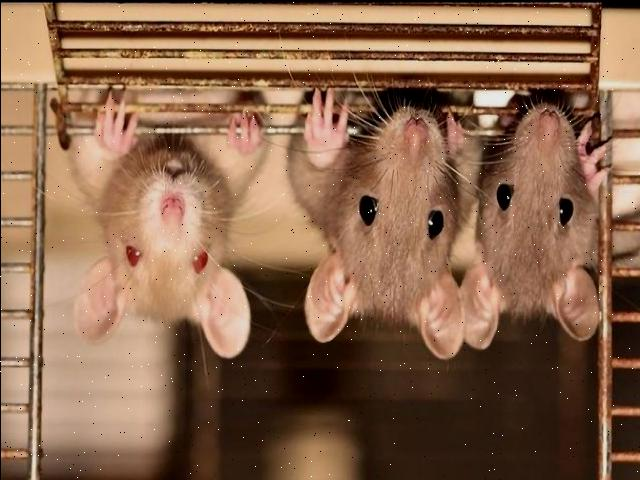Tikus: (59, 93, 266, 360), (294, 91, 466, 360), (474, 103, 604, 348)
